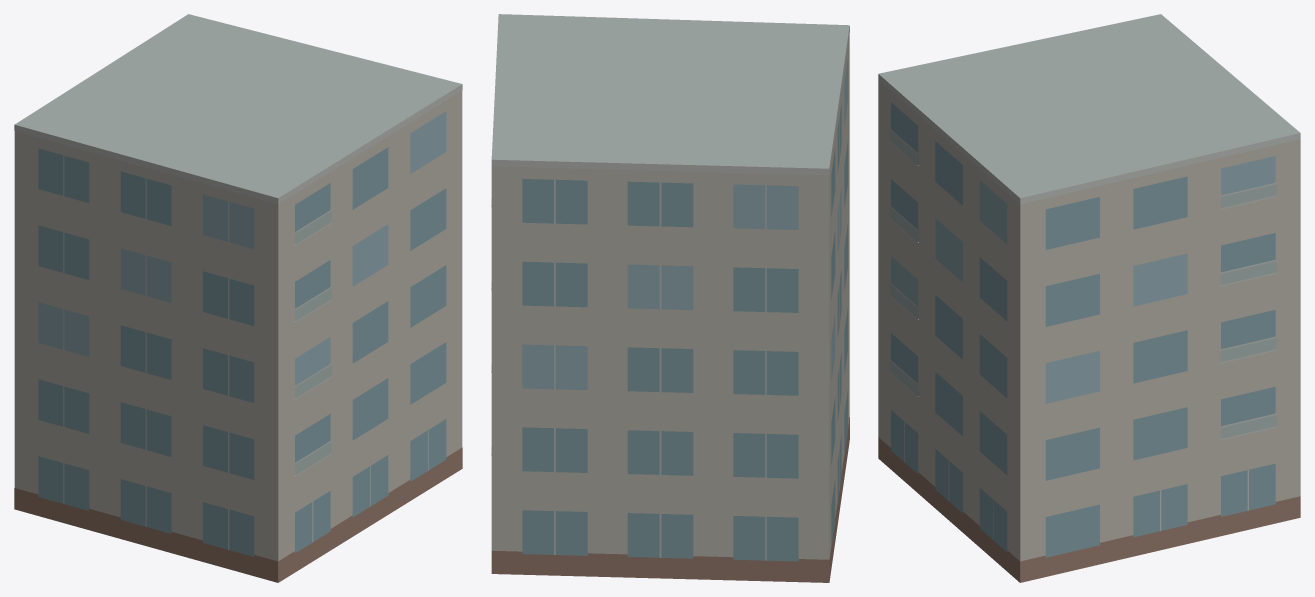
Rendered from survey-upis-32995906.glb.
3 renders of one model, left to right at view 1: azimuth 30°, elevation 25°; view 2: azimuth 150°, elevation 25°; view 3: azimuth 270°, elevation 25°, orthographic. The views are drawn at different scales.
Visible parts, largest first — view 1: survey-upis-32995906.tmp; view 2: survey-upis-32995906.tmp; view 3: survey-upis-32995906.tmp.
Part boxes in pixels (x1,y1,x2,y2): survey-upis-32995906.tmp: [14, 14, 462, 582]; survey-upis-32995906.tmp: [491, 14, 849, 582]; survey-upis-32995906.tmp: [878, 14, 1300, 582].
Size of the model in its own units: 15.62 by 15.2 by 15.13.
